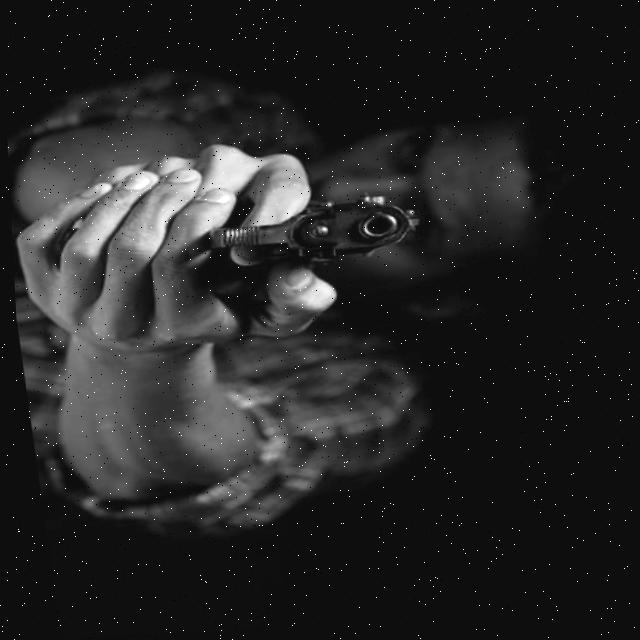pistol: (193, 189, 423, 284)
